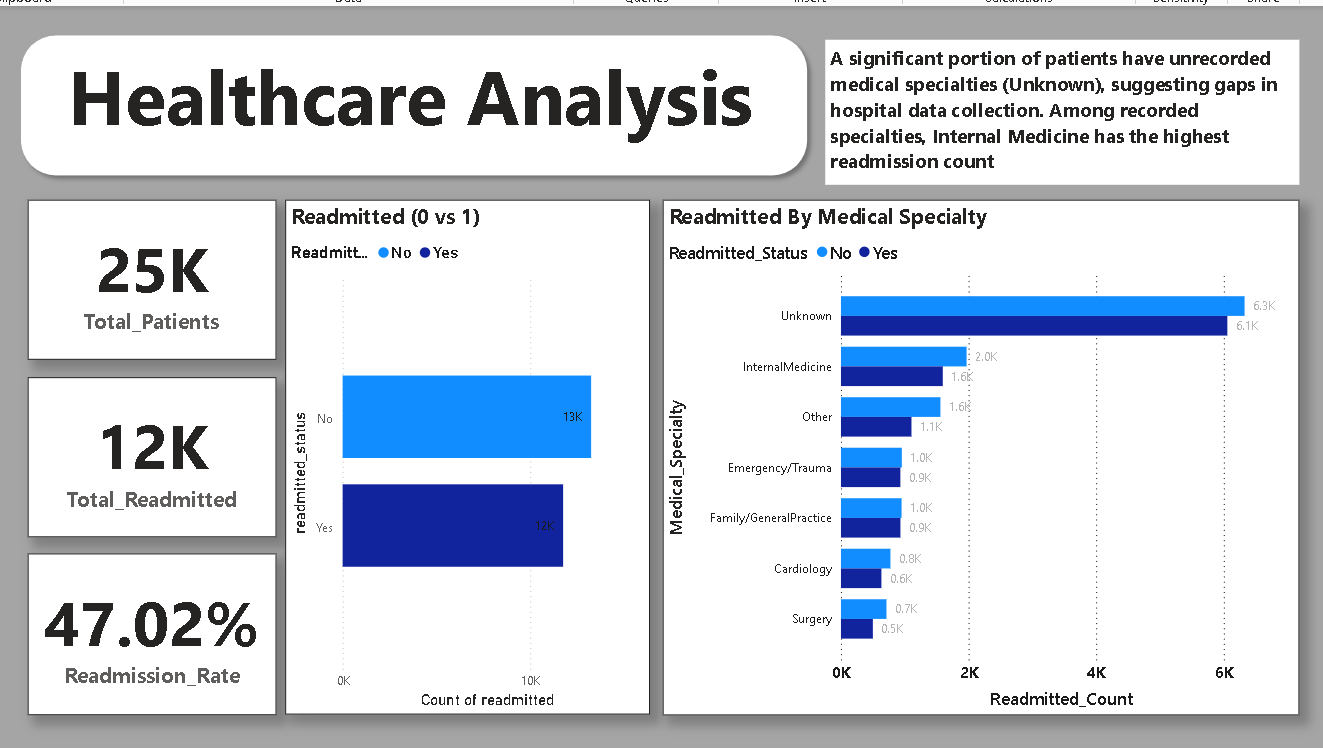

The dashboard page shown, as its layout file describes it:
{"tool":"powerbi","page":{"name":"Page 1","canvas":[1280,720],"ordinal":0},"visuals":[{"type":"card","fields":{"Values":["healthcare_cleaned.total_patients"]},"box":[28.2,186.4,240.4,154.5],"z":0},{"type":"card","fields":{"Values":["healthcare_cleaned.total_readmitted"]},"box":[28.2,358.1,240.4,154.5],"z":1000},{"type":"card","fields":{"Values":["healthcare_cleaned.readmission_rate"]},"box":[28.2,528.5,240.4,155.7],"z":2000},{"type":"shape","box":[12.1,19.3,776.9,153.2],"z":3000},{"type":"barChart","title":"Readmitted (0 vs 1) ","fields":{"Category":["healthcare_cleaned.readmitted_status"],"Y":["CountNonNull(healthcare_cleaned.readmitted)"],"Series":["healthcare_cleaned.readmitted_status"]},"box":[276.3,187,352.3,497.1],"z":4000},{"type":"clusteredBarChart","title":"Readmitted By Medical Specialty","fields":{"Category":["healthcare_cleaned.medical_specialty"],"Y":["CountNonNull(healthcare_cleaned.readmitted_status)"],"Series":["healthcare_cleaned.readmitted_status"]},"box":[640.1,186.4,614.4,497.9],"z":5000},{"type":"textbox","box":[61.5,32.6,680.4,131.5],"z":6000},{"type":"textbox","box":[797.5,32.6,457.2,139.9],"z":7000}]}

Visuals, with their boxes on the page's 1280x720 design canvas (x1, y1, x2, y2). These are canvas units, not pixel positions in the 1323x748 screenshot, which may show the page scaled, cropped or inside an application window:
card - healthcare_cleaned.total_patients: bbox=(28, 186, 269, 341)
card - healthcare_cleaned.total_readmitted: bbox=(28, 358, 269, 513)
card - healthcare_cleaned.readmission_rate: bbox=(28, 528, 269, 684)
shape: bbox=(12, 19, 789, 172)
"Readmitted (0 vs 1) " barChart: bbox=(276, 187, 629, 684)
"Readmitted By Medical Specialty" clusteredBarChart: bbox=(640, 186, 1254, 684)
textbox: bbox=(62, 33, 742, 164)
textbox: bbox=(798, 33, 1255, 172)
